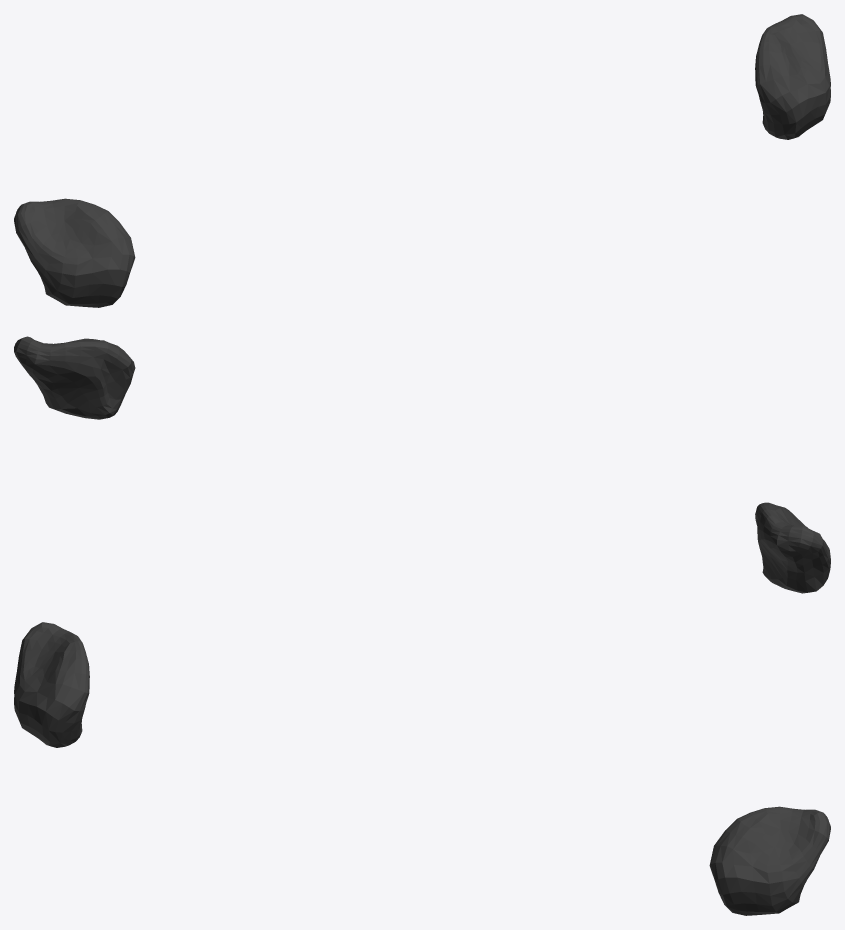
File: Ulnar_carpal_1.glb
3 views of the same model, one above another, from view 1: azimuth 30°, elevation 25°; view 2: azimuth 150°, elevation 25°; view 3: azimuth 330°, elevation 25° (orthographic).
Parts seen in each view (by area): view 1: Ulnar_carpal_1; view 2: Ulnar_carpal_1; view 3: Ulnar_carpal_1.
Boxes of the visible parts, x1,y1,x2,y2 form: Ulnar_carpal_1: (14,14,830,307); Ulnar_carpal_1: (14,336,830,593); Ulnar_carpal_1: (14,622,830,915).
Bounding box in the file's own units: 0.00412 × 0.00044 × 0.000474.
Materials: 1 (1 with a texture image).
